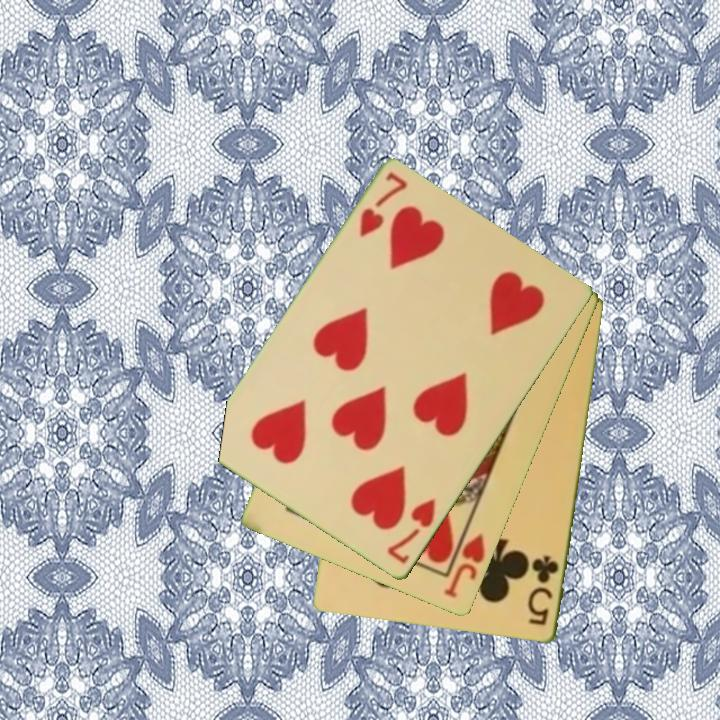5c: (524, 552, 562, 629)
7h: (383, 495, 439, 567), (356, 168, 411, 241)
Jh: (441, 529, 489, 602)
